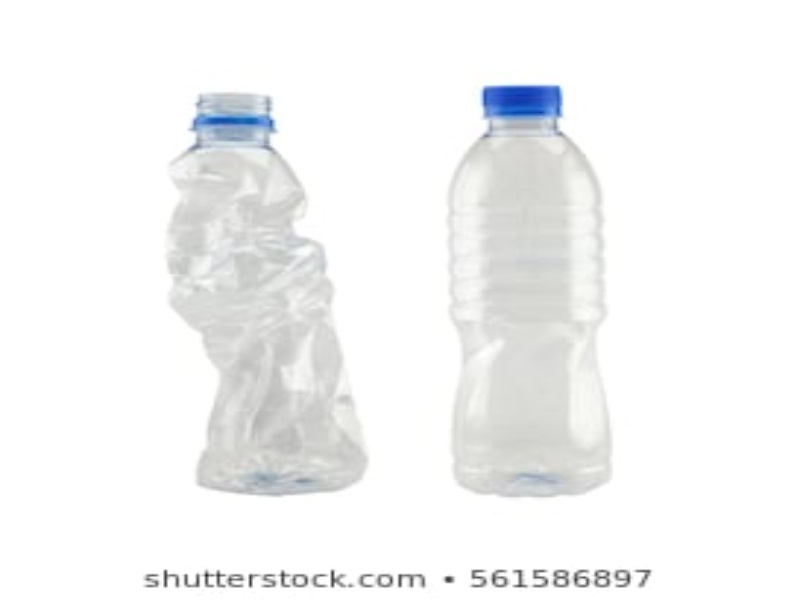bottle-cap: (479, 81, 566, 122)
plastic-bottle: (163, 87, 372, 495), (445, 83, 619, 496)
